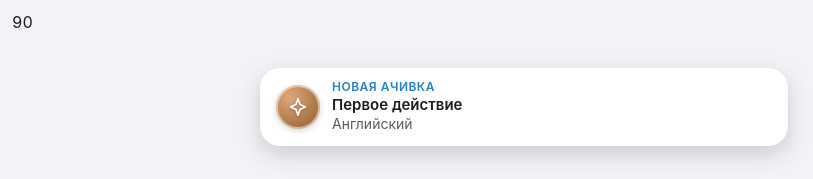
it: CelebrationProvider › shows two achievements as two cards, one after the other
The width and height of the screenshot is (813, 179).
Expected: the text "Первое действие" is shown, [332, 94, 462, 115]
Expected: the text "Два фронта" is not shown
Press the mouse on the button "Новая ачивка Первое действие Английский" at (298, 107), box [260, 68, 788, 146]
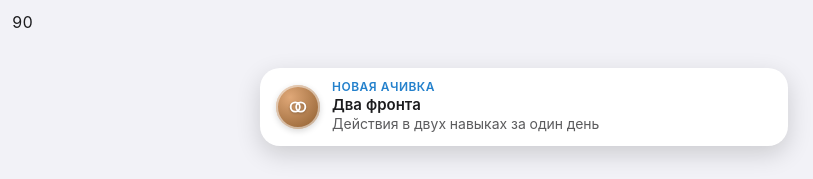
Result: the text "Два фронта" is shown at [332, 95, 421, 114]
Result: the text "Действия в двух навыках за один день" is shown at [332, 115, 599, 134]
